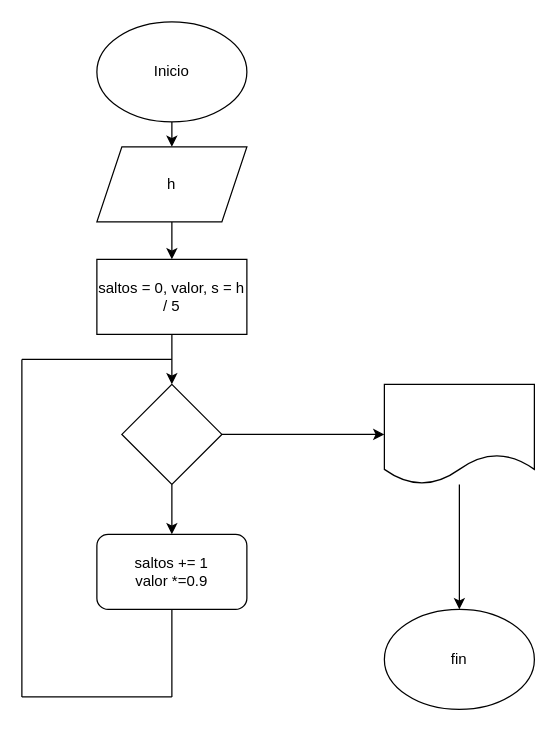
Some shapes in this 556 by 731 pixel diagram are drawn without their labels. The shapes that lost their labels are listed below. From the top down, each one's centre as x and y in pixels, then its label:
At point (171, 433): "valor >= s".
At point (458, 433): "Imprime (saltos y valor)".
